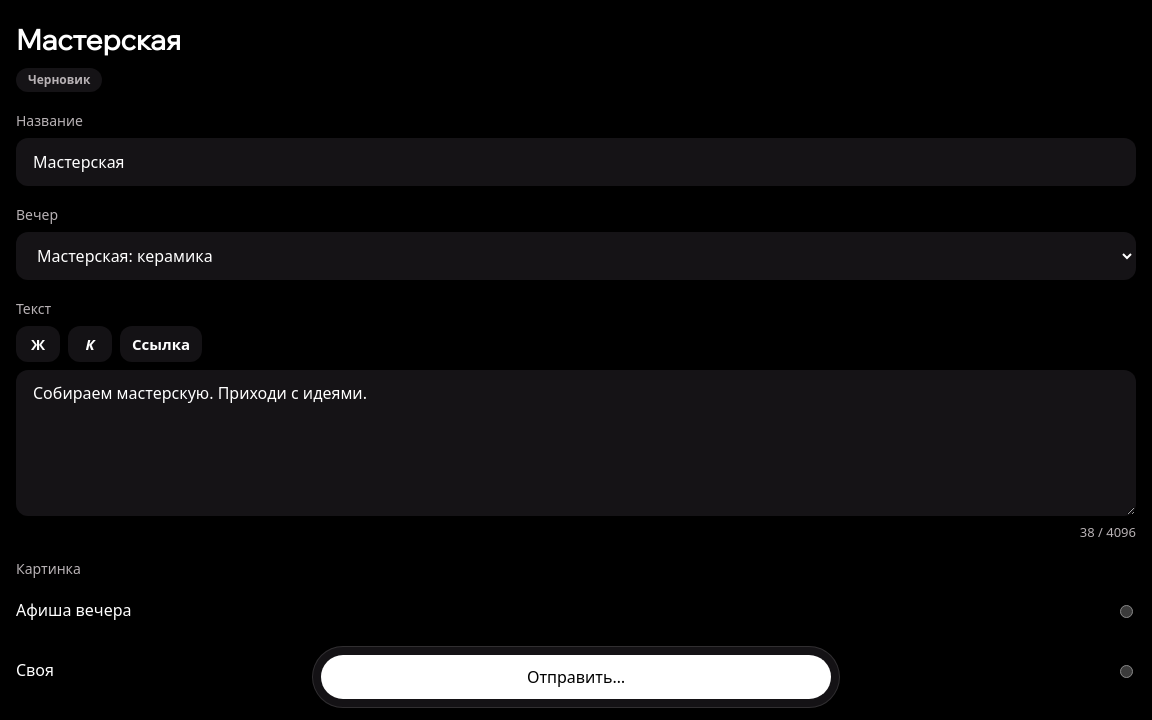
Test: SendFlow › shows an unpublished evening under «Вечер»
The image size is (1152, 720).
Click the button "Отправить…". click: (576, 677)
box: [321,655,831,699]
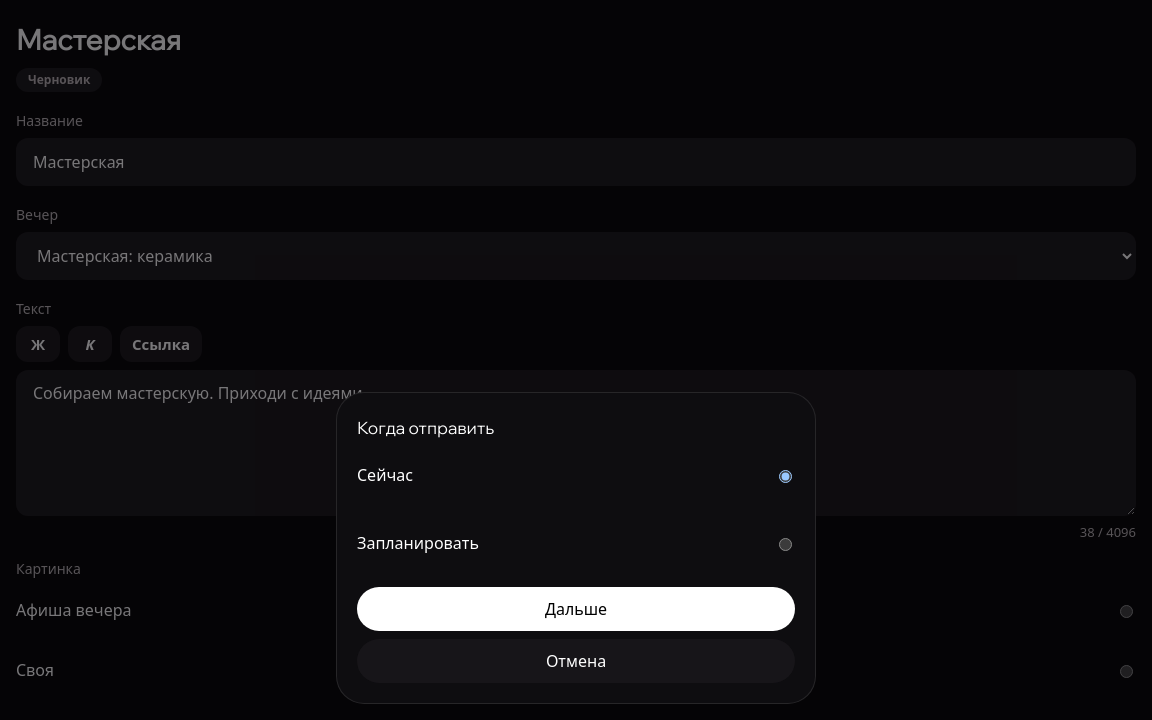
Click the button "Дальше". click: (576, 609)
box: [357,587,795,631]
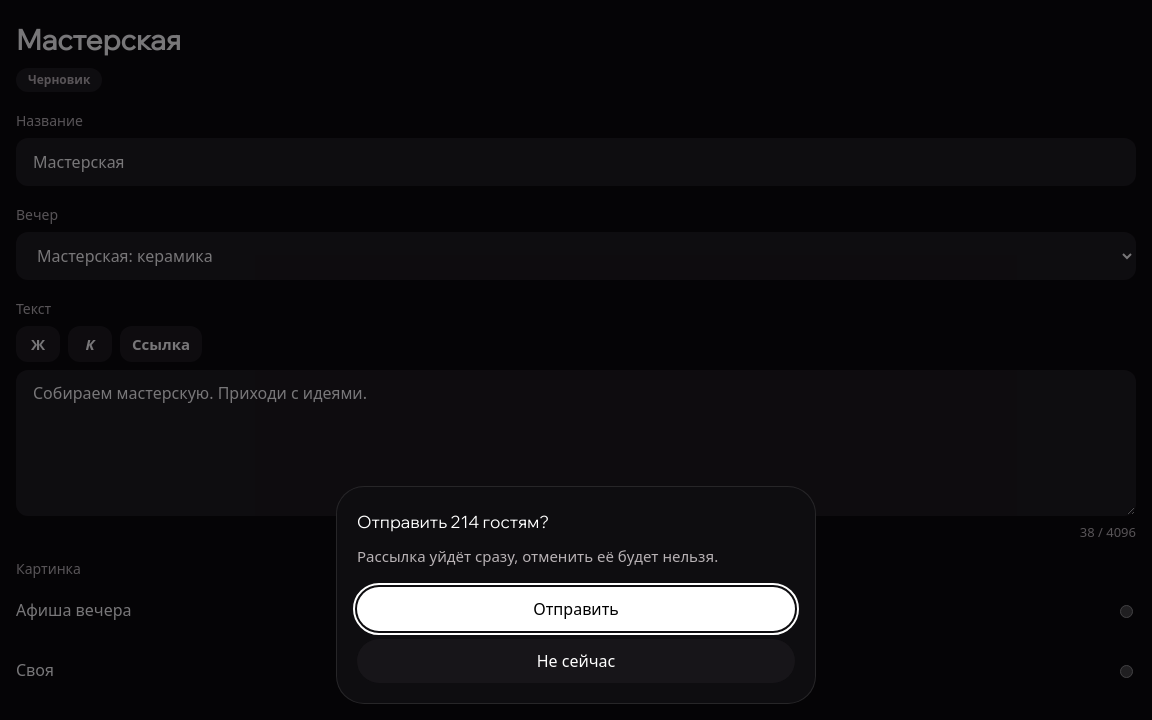
Click the button "Отправить". click: (576, 609)
box: [357,587,795,631]
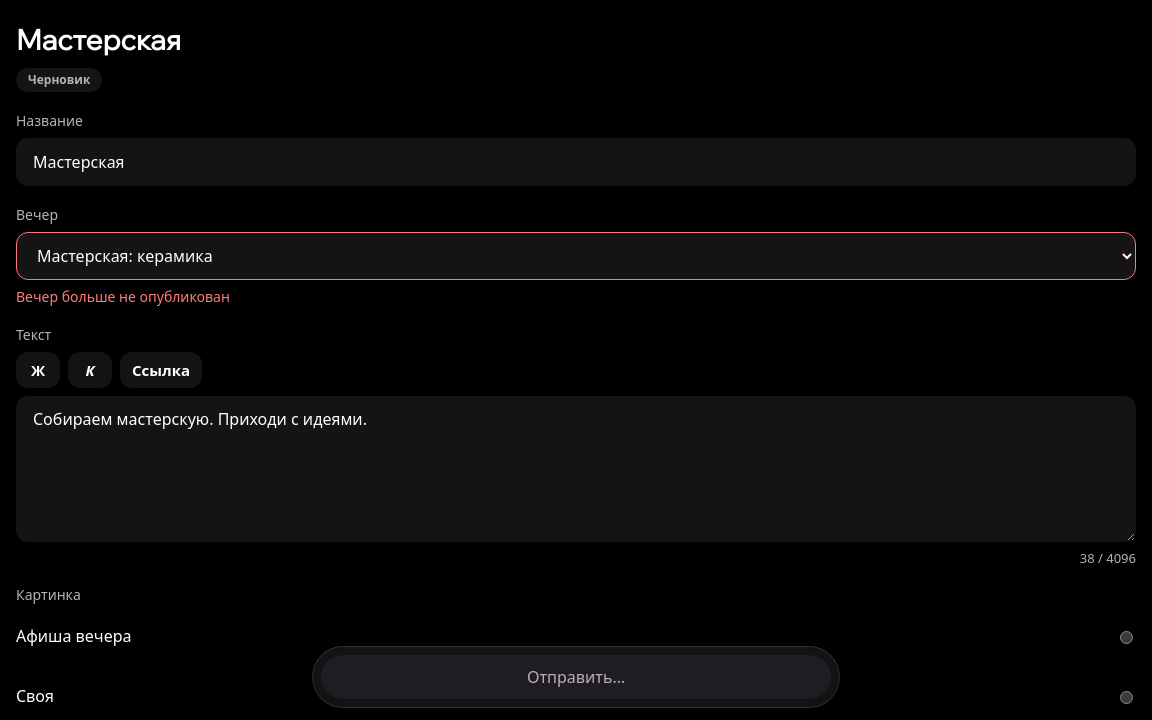
Check: the text "Вечер больше не опубликован" is shown, box [16,287,230,306]
